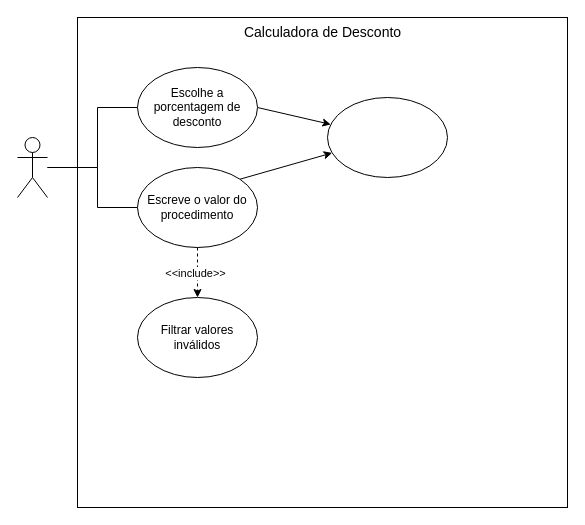
Some shapes in this 585 by 525 pixel diagram are drawn without their labels. The centre of each missing label's shape, as x and y in pixels:
Calcular desconto do procedimento: [387,137]
User: [32,167]
